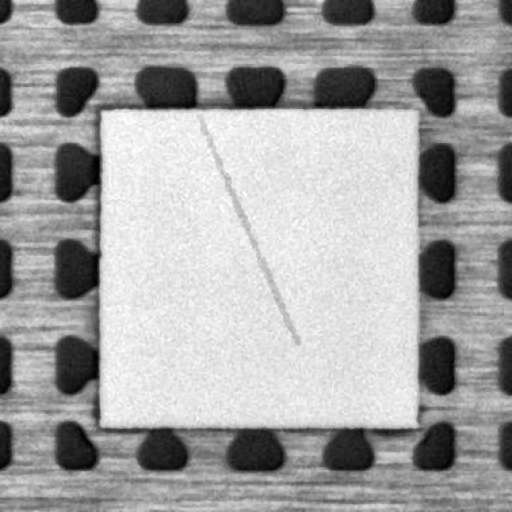DIE_CRACK: (199, 115, 298, 340)
